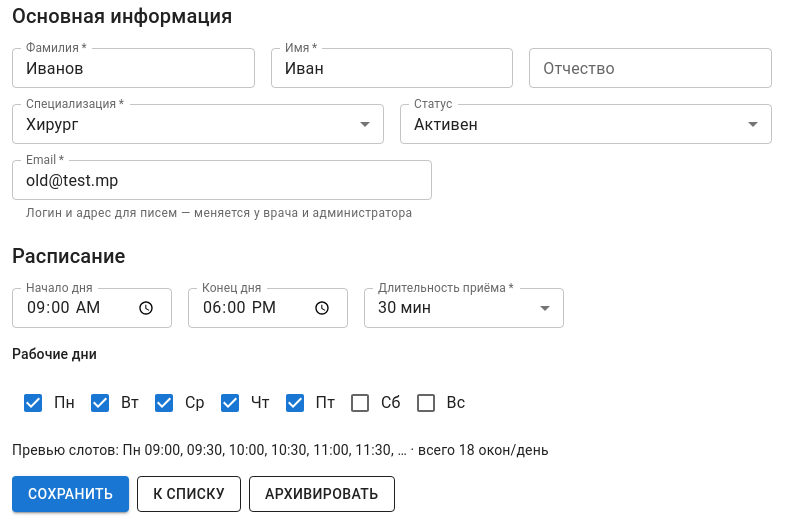
DoctorForm edit: email учётной записи (3.2) › занятый email (409 с полем) — под полем, карточка НЕ сохранена
Replace the text in the field labelled "Email *" with "taken@test.mp" at (222, 180), box [12,160,432,200]
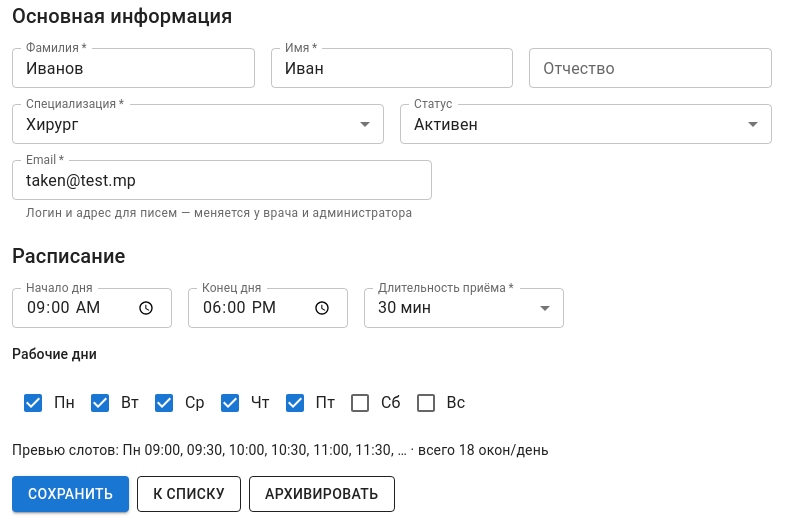
Click the button "Сохранить" at (71, 494), box [12,476,129,512]
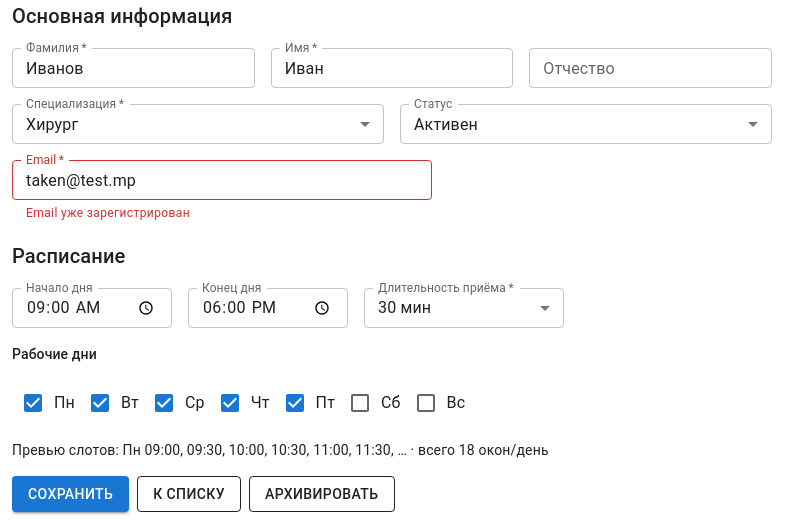
Now the text "Email уже зарегистрирован" is shown, box [26,206,190,220]
